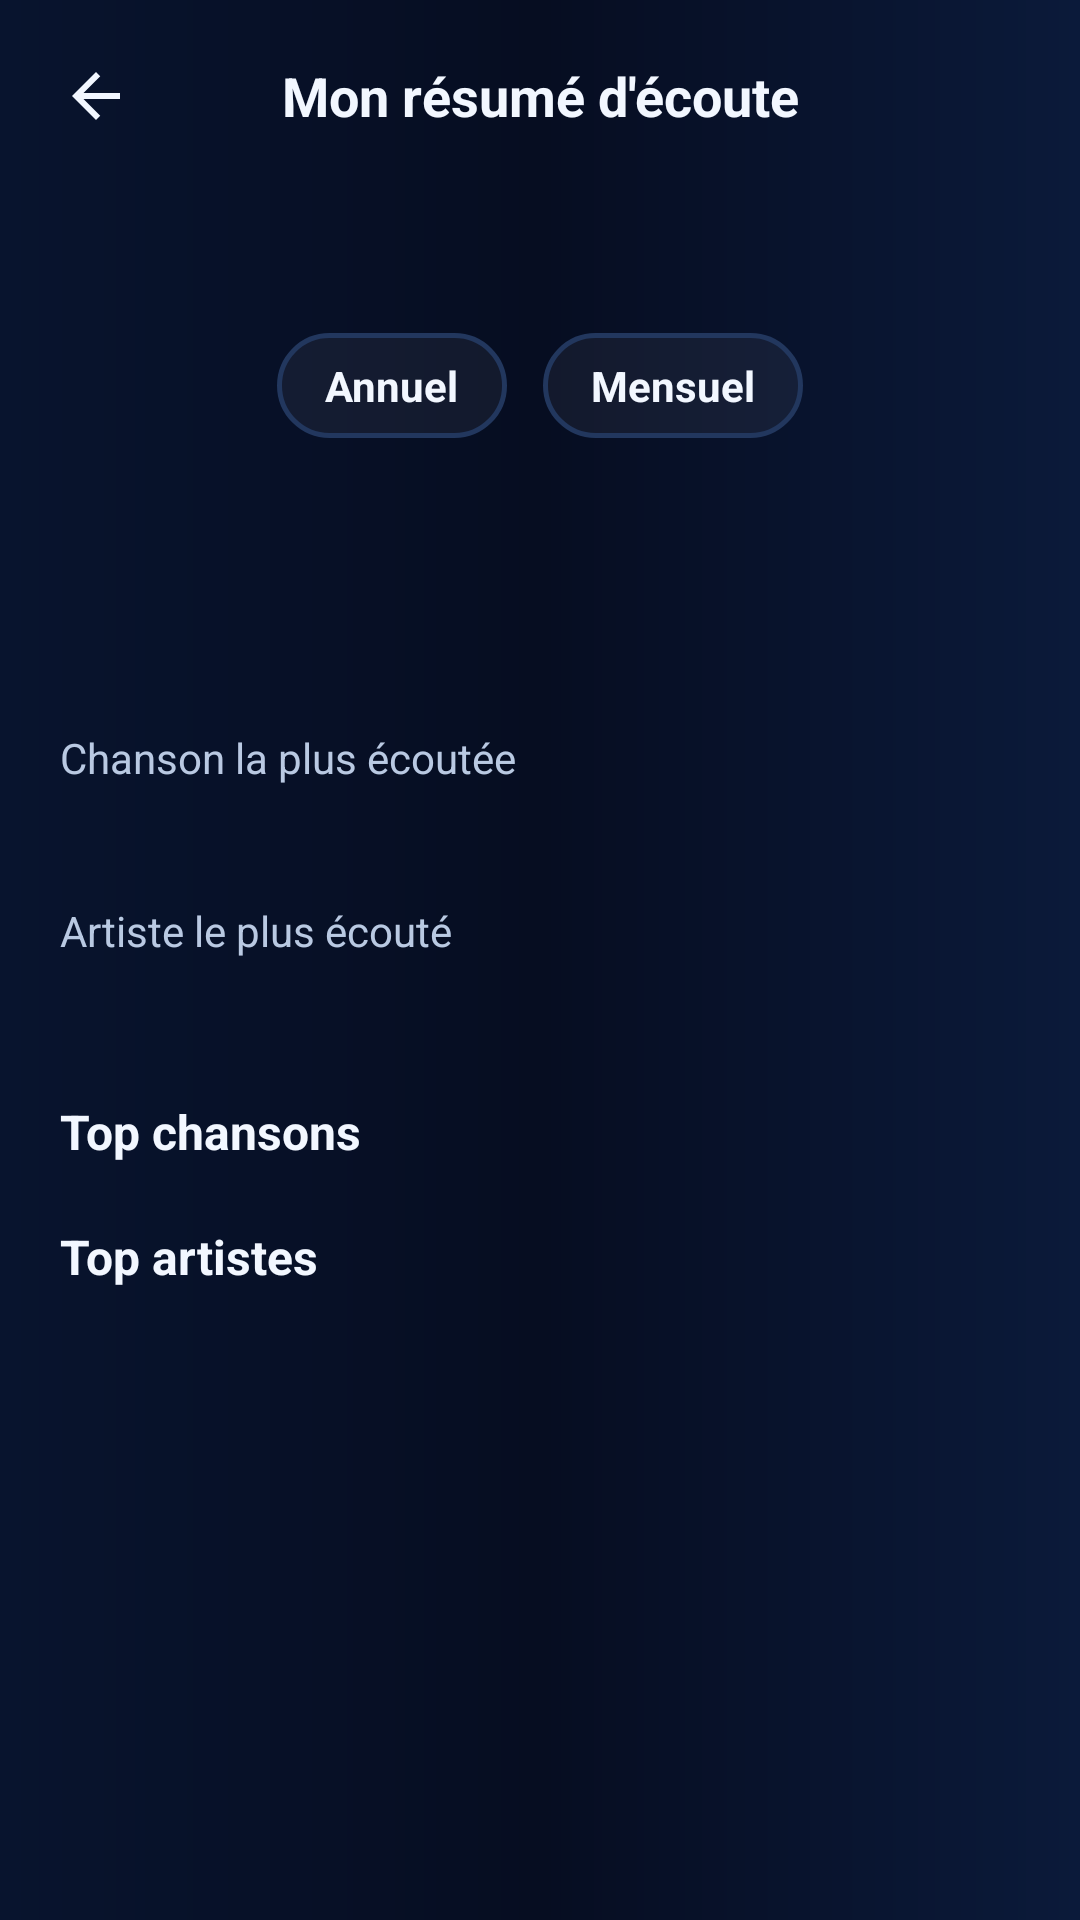

Locate icon controls on the screen. Image size 1080x1920, boxes as (x1, y1, x2, y2).
Retour: (72, 72, 120, 120)
